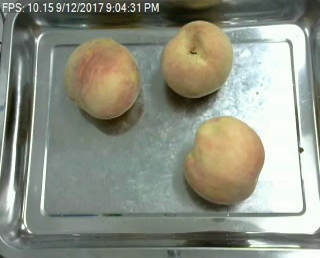Peach: (182, 115, 265, 204), (63, 38, 140, 119), (162, 20, 232, 98)
